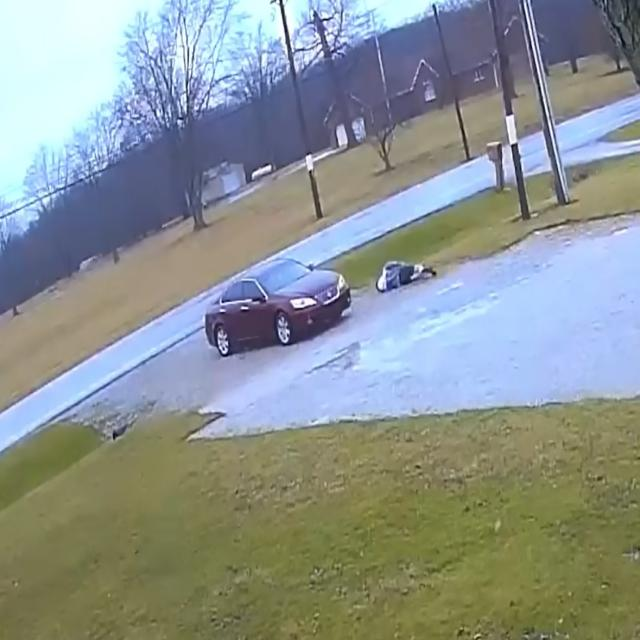fallen: (376, 261, 436, 292)
